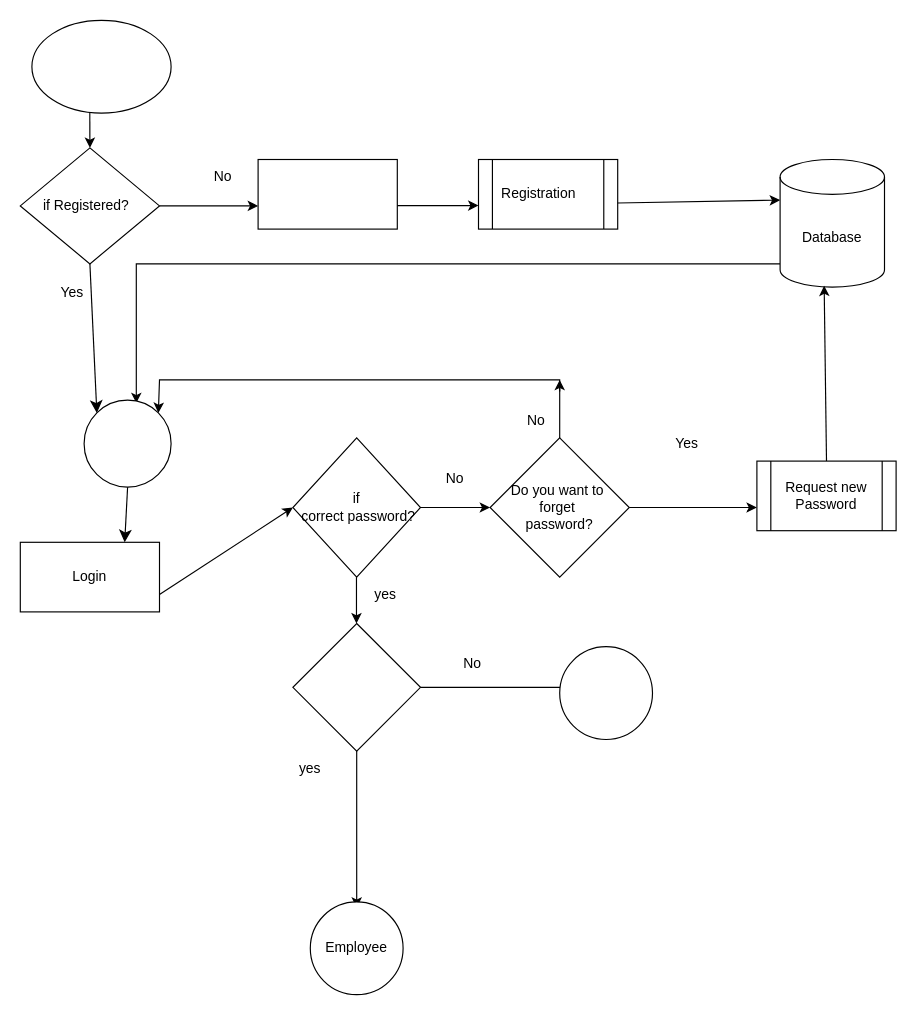
Some shapes in this 916 by 1015 pixel diagram are drawn without their labels. Here are the shapes that lost their labels. From the top down, the box of each, then its label:
(31, 19, 171, 113): Start
(257, 158, 397, 229): New User
(292, 622, 420, 751): If employee ?
(559, 646, 652, 740): Employer
